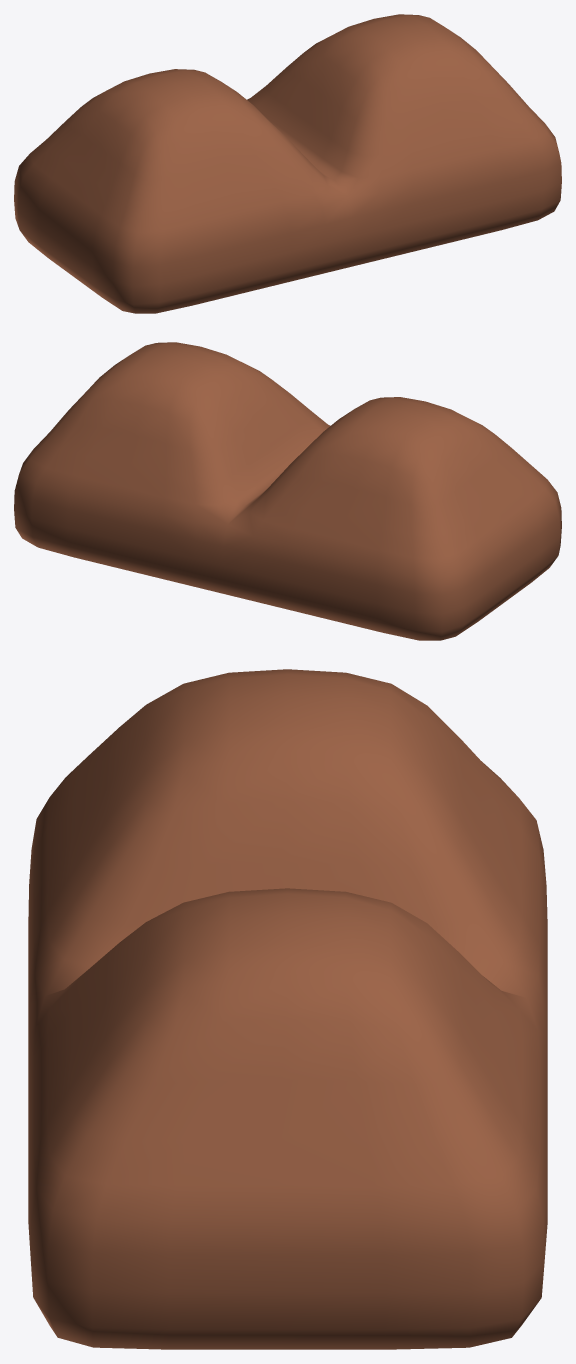
Rendered from Chocmilk_02.fbx.
The picture shows the model from 3 angles, top to bottom: view 1: azimuth 30°, elevation 25°; view 2: azimuth 150°, elevation 25°; view 3: azimuth 270°, elevation 25°; orthographic projection. The views are drawn at different scales.
Parts seen in each view (by area): view 1: Chocmilk_02_LOD0; view 2: Chocmilk_02_LOD0; view 3: Chocmilk_02_LOD0.
Part boxes in pixels (x1,y1,x2,y2): Chocmilk_02_LOD0: [14, 14, 561, 313]; Chocmilk_02_LOD0: [14, 342, 561, 640]; Chocmilk_02_LOD0: [28, 669, 547, 1349].
Size of what is drawn, in the model's own units: 570 by 212 by 285.
